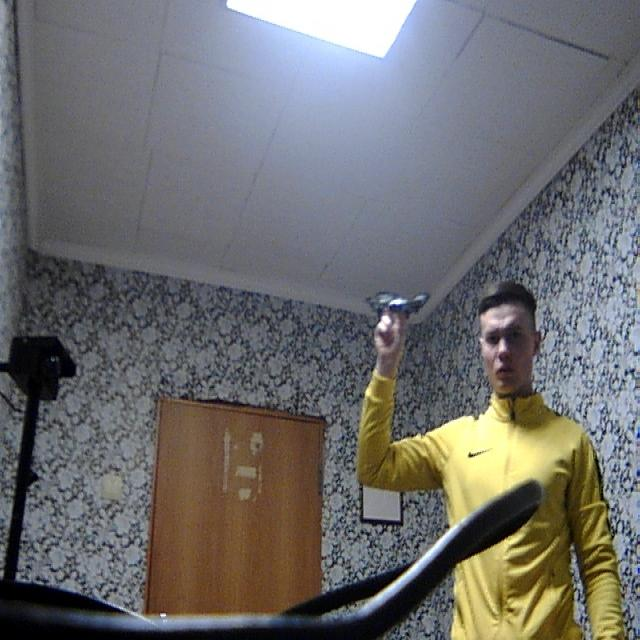drone: (359, 281, 432, 315)
